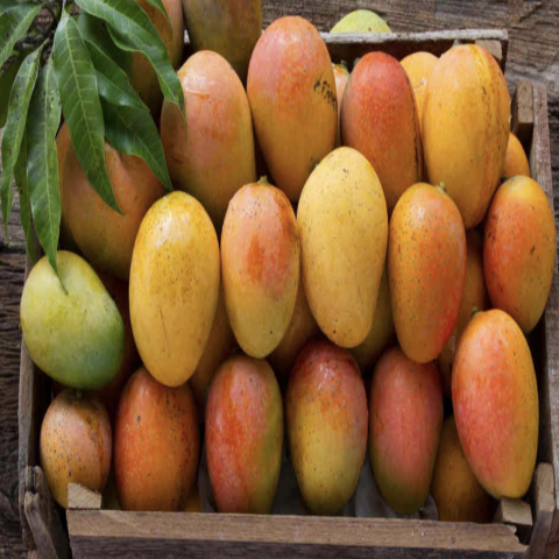mango: (290, 136, 398, 366), (412, 43, 527, 254), (123, 177, 225, 394), (444, 290, 545, 500), (235, 20, 342, 203), (382, 176, 484, 365), (205, 329, 291, 548), (8, 249, 119, 405), (211, 166, 302, 350), (358, 328, 444, 505), (478, 172, 558, 350)
